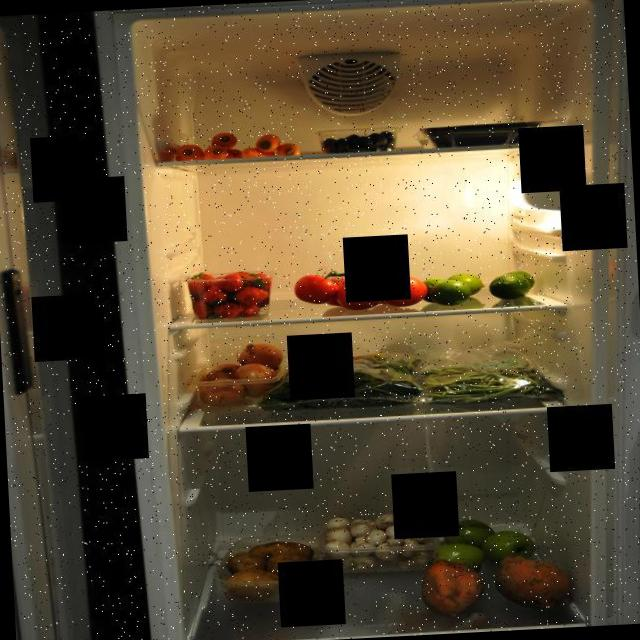Cebolla: (190, 341, 286, 414)
Champiñones: (314, 516, 441, 576)
Manzana: (431, 516, 538, 574)
Patata: (214, 532, 329, 600)
Tomate: (294, 260, 429, 316)
Zanahoria: (174, 127, 307, 164)
